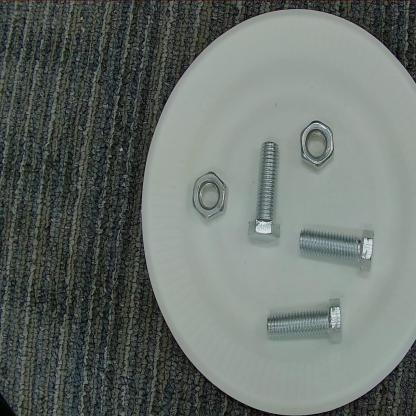FOD: (295, 217, 381, 280), (261, 291, 351, 347), (242, 136, 284, 247), (186, 168, 231, 227), (299, 117, 341, 171)
